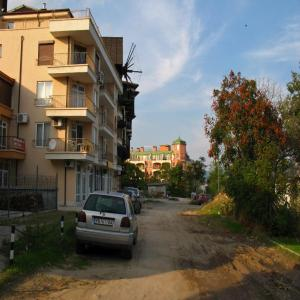Vehicle-registration-plate: (95, 218, 114, 228)
